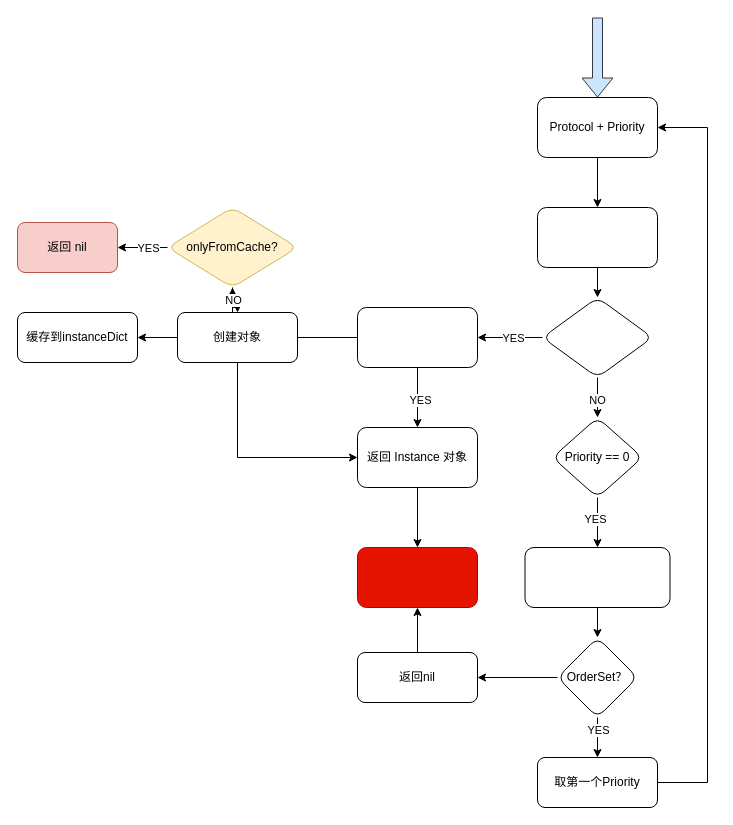
Some shapes in this 733 by 825 pixel diagram are drawn without their labels. Here are the shapes that lost their labels. From the top down, the centre of each, then its label:
point (597, 237): Registor Map 查找注册信息
point (417, 337): 通过class到instanceDict查找
point (597, 337): 找到注册信息？
point (417, 577): 结束
point (597, 577): 通过service到priorityDict查OrderSet
